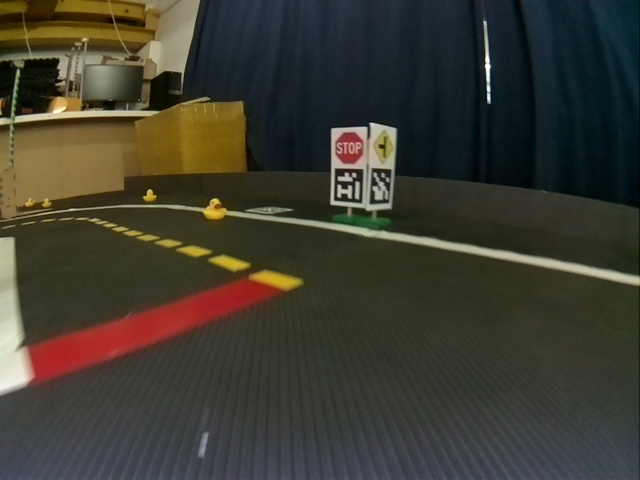Duckie: (203, 199, 226, 218), (143, 189, 155, 203), (42, 198, 52, 208), (25, 198, 34, 207)
Intersection sign: (371, 128, 394, 164)
QR code: (334, 167, 363, 205), (368, 169, 392, 203), (247, 206, 292, 215)
Stop sign: (334, 131, 364, 165)
